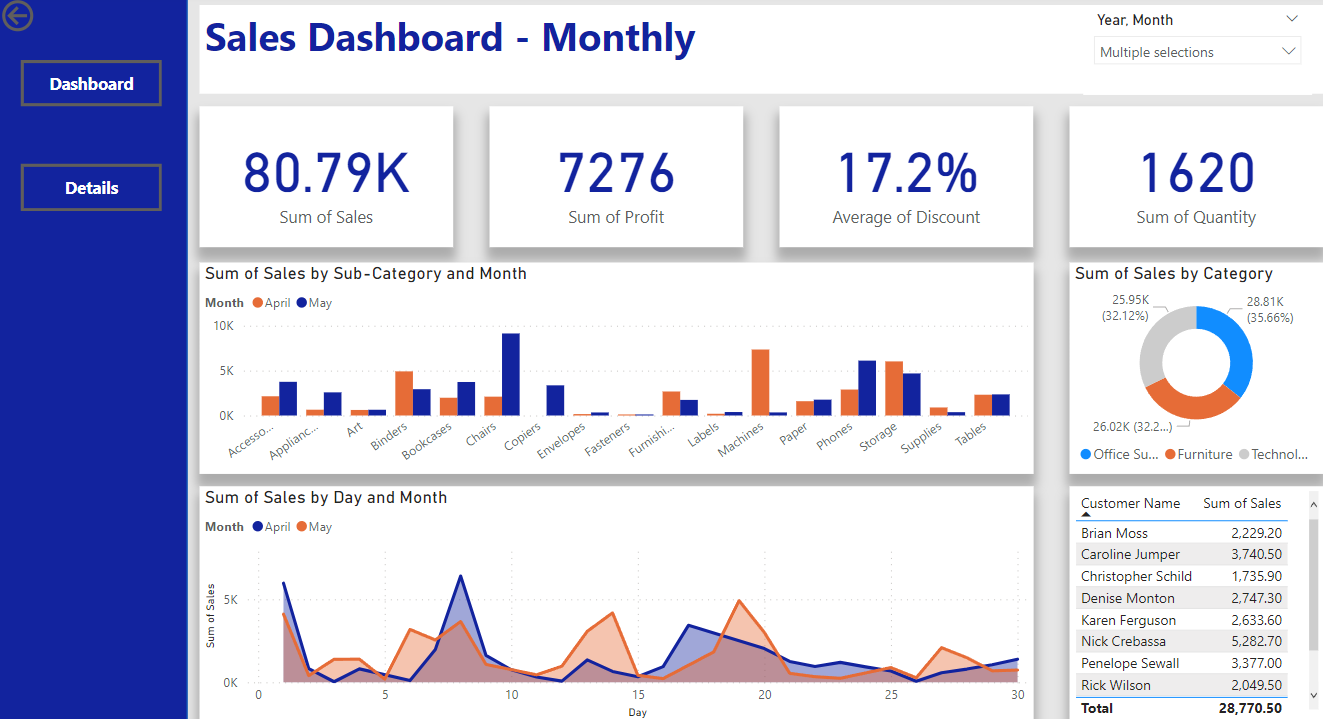

Layout of this report page (visuals, bound fields, positions):
{"tool":"powerbi","page":{"name":"Page 2","canvas":[1280,720],"ordinal":1},"visuals":[{"type":"shape","box":[0,0,183.9,720.4],"z":0},{"type":"card","fields":{"Values":["SuperstoreSales.Sales"]},"box":[195.4,107.3,244.8,136.3],"z":0,"group":"g1"},{"type":"card","fields":{"Values":["SuperstoreSales.Profit"]},"box":[475.2,107.3,244.8,136.3],"z":1000,"group":"g1"},{"type":"card","fields":{"Values":["SuperstoreSales.Discount"]},"box":[755,107.3,244.8,136.3],"z":2000,"group":"g1"},{"type":"actionButton","box":[22.9,162.8,136.3,45.8],"z":2000},{"type":"card","fields":{"Values":["SuperstoreSales.Quantity"]},"box":[1034.8,107.3,244.8,136.3],"z":3000,"group":"g1"},{"type":"textbox","box":[195.4,9.6,1085.4,85.6],"z":3000},{"type":"slicer","fields":{"Values":["SuperstoreSales.Order Month.Variation.Date Hierarchy.Year","SuperstoreSales.Order Month.Variation.Date Hierarchy.Month"]},"box":[1048,10.9,220.7,85.6],"z":4000},{"type":"clusteredColumnChart","fields":{"Category":["SuperstoreSales.Sub-Category"],"Y":["SuperstoreSales.Sales"],"Series":["SuperstoreSales.Order Date.Variation.Date Hierarchy.Month"]},"box":[195.4,258.1,804.4,203.8],"z":4000,"group":"g1"},{"type":"areaChart","fields":{"Category":["SuperstoreSales.Order Date.Variation.Date Hierarchy.Day"],"Y":["SuperstoreSales.Sales"],"Series":["SuperstoreSales.Order Date.Variation.Date Hierarchy.Month"]},"box":[195.4,473.9,804.4,229.1],"z":5000,"group":"g1"},{"type":"actionButton","box":[0,0,100,40],"z":6000},{"type":"donutChart","fields":{"Category":["SuperstoreSales.Category"],"Y":["SuperstoreSales.Sales"]},"box":[1035,258,245,204],"z":6000,"group":"g1"},{"type":"actionButton","box":[22.9,62.7,136.3,44.6],"z":7000},{"type":"group","id":"g1","title":"Group 1","box":[195.4,107.3,1084.6,595.8],"z":8000},{"type":"tableEx","fields":{"Values":["SuperstoreSales.Customer Name","SuperstoreSales.Sales"]},"box":[1034.8,474,244.8,229.1],"z":9000}]}

Visuals, with their boxes on the page's 1280x720 design canvas (x1, y1, x2, y2). These are canvas units, not pixel positions in the 1323x723 screenshot, which may show the page scaled, cropped or inside an application window:
shape: detection(0, 0, 184, 720)
card - SuperstoreSales.Sales: detection(195, 107, 440, 244)
card - SuperstoreSales.Profit: detection(475, 107, 720, 244)
card - SuperstoreSales.Discount: detection(755, 107, 1000, 244)
actionButton: detection(23, 163, 159, 209)
card - SuperstoreSales.Quantity: detection(1035, 107, 1280, 244)
textbox: detection(195, 10, 1281, 95)
slicer - SuperstoreSales.Order Month.Variation.Date Hierarchy.Year x SuperstoreSales.Order Month.Variation.Date Hierarchy.Month: detection(1048, 11, 1269, 96)
clusteredColumnChart - SuperstoreSales.Sub-Category x SuperstoreSales.Sales: detection(195, 258, 1000, 462)
areaChart - SuperstoreSales.Order Date.Variation.Date Hierarchy.Day x SuperstoreSales.Sales: detection(195, 474, 1000, 703)
actionButton: detection(0, 0, 100, 40)
donutChart - SuperstoreSales.Category x SuperstoreSales.Sales: detection(1035, 258, 1280, 462)
actionButton: detection(23, 63, 159, 107)
"Group 1" group: detection(195, 107, 1280, 703)
tableEx - SuperstoreSales.Customer Name x SuperstoreSales.Sales: detection(1035, 474, 1280, 703)
